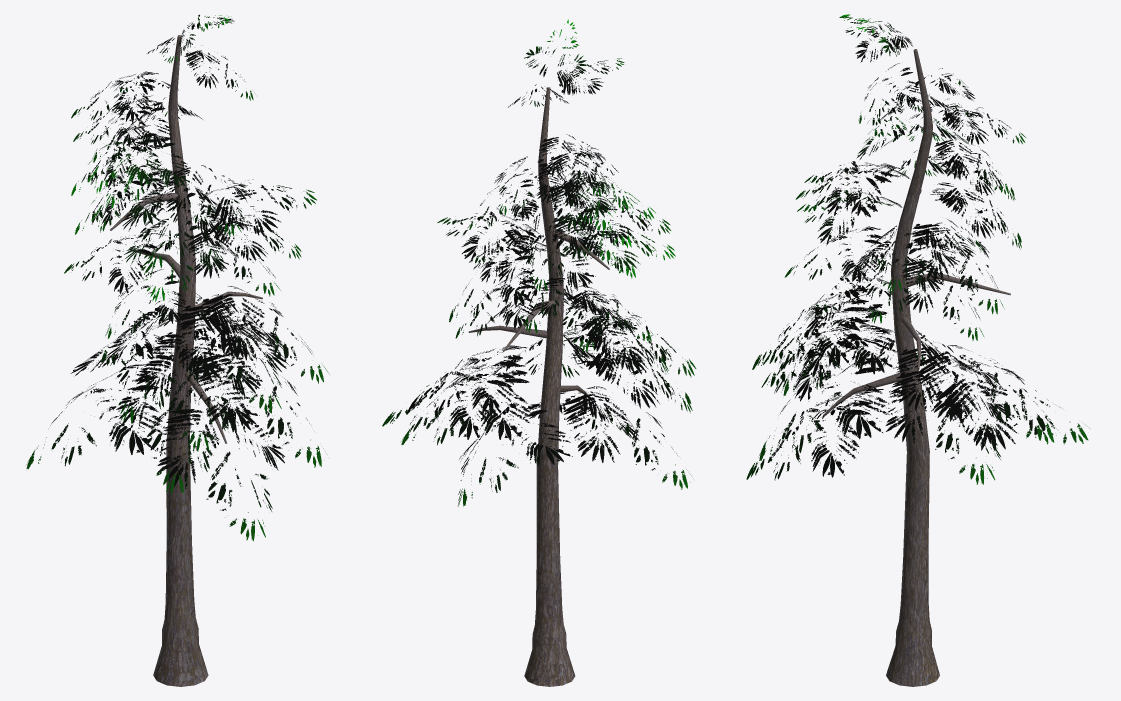
File: Pine 2.fbx
3 views of the same model, side by side, from view 1: azimuth 30°, elevation 25°; view 2: azimuth 150°, elevation 25°; view 3: azimuth 270°, elevation 25° (orthographic). The views are drawn at different scales.
Visible parts, largest first — view 1: tree1; view 2: tree1; view 3: tree1.
Boxes of the visible parts, x1,y1,x2,y2 form: tree1: (26, 14, 329, 686); tree1: (382, 19, 696, 686); tree1: (746, 14, 1088, 686).
Size of the model in its own units: 459 by 939 by 472.
